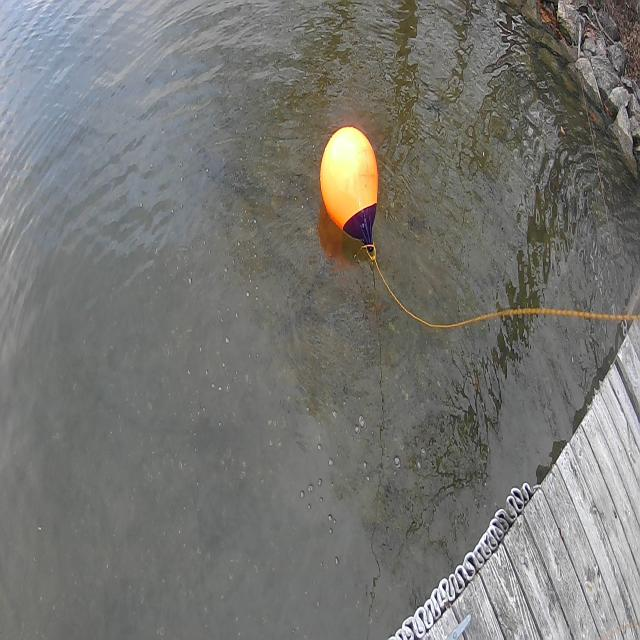Buoy: (316, 120, 388, 260)
